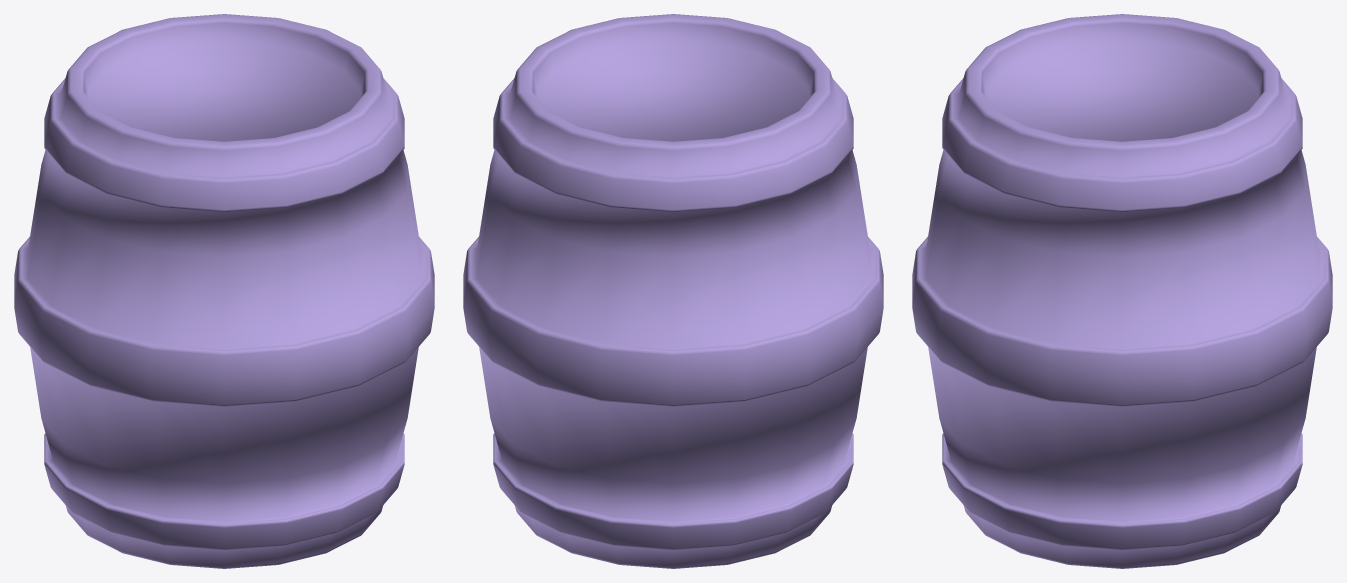
The model's file is WBarrel_TX.fbx.
3 renders of one model, left to right at view 1: azimuth 30°, elevation 25°; view 2: azimuth 150°, elevation 25°; view 3: azimuth 270°, elevation 25°, orthographic.
Visible parts, largest first — view 1: WBarrel; view 2: WBarrel; view 3: WBarrel.
Part boxes in pixels (x1,y1,x2,y2): WBarrel: (14, 14, 434, 568); WBarrel: (463, 14, 883, 568); WBarrel: (912, 14, 1332, 568).
Size of the model in its own units: 13.33 by 14.57 by 13.13.
